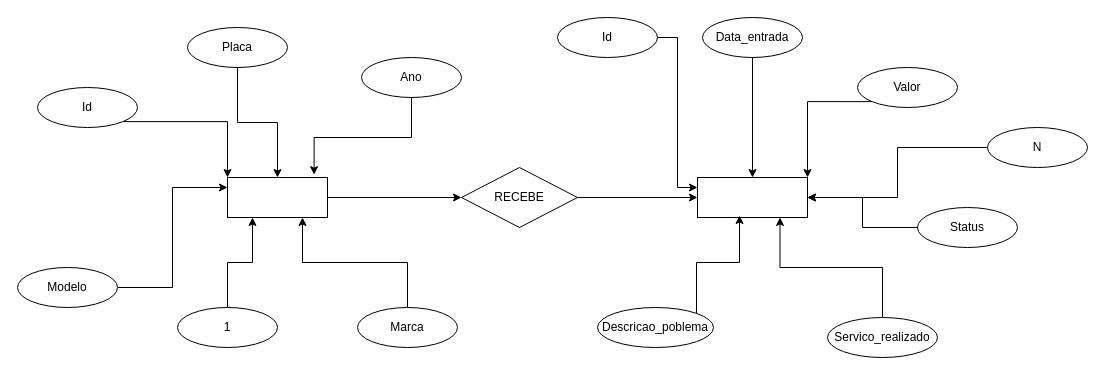
Some shapes in this 1105 by 375 pixel diagram are drawn without their labels. Each missing label, with the centre of its shape:
ORDEM_SERVICO: pixel 752 197
VEICULO: pixel 277 197
